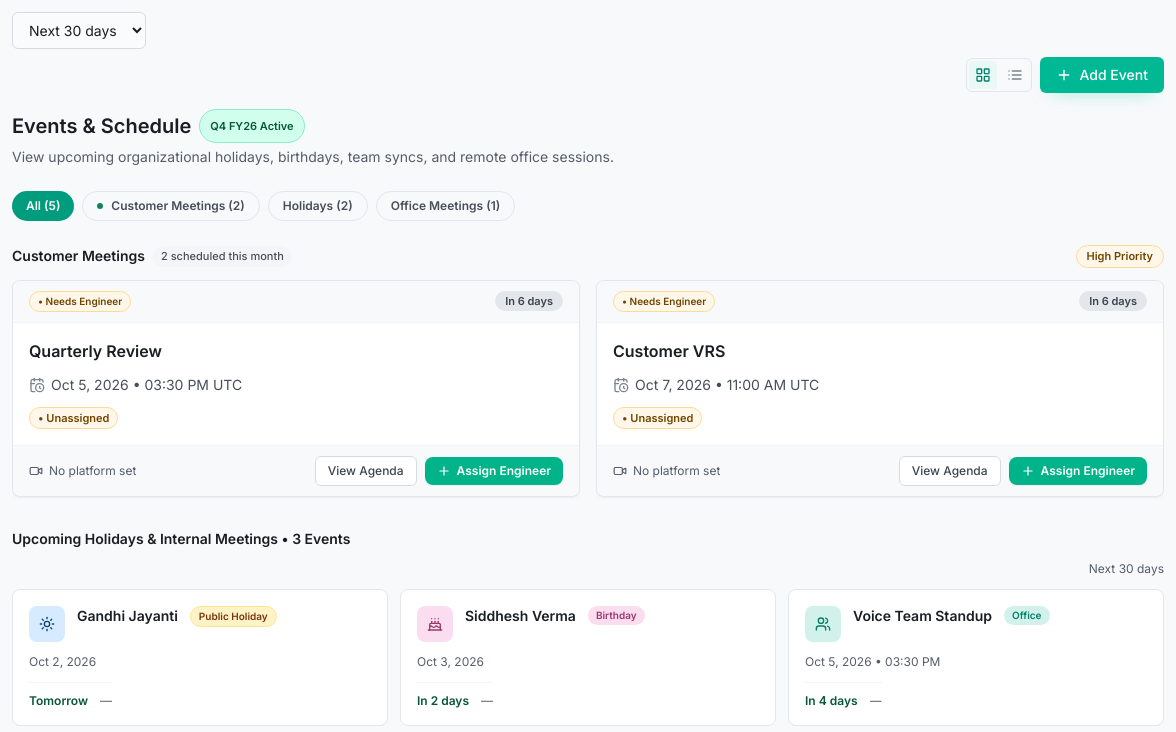
Test case: EventsPage categorisation › filters the list down to the selected pill
This screenshot has width=1176, height=732.
Check: the text "Voice Team Standup" is shown, box 853,606 -> 992,626
Click the tab "Holidays (2)" at (318, 206), box 268,191 -> 368,221
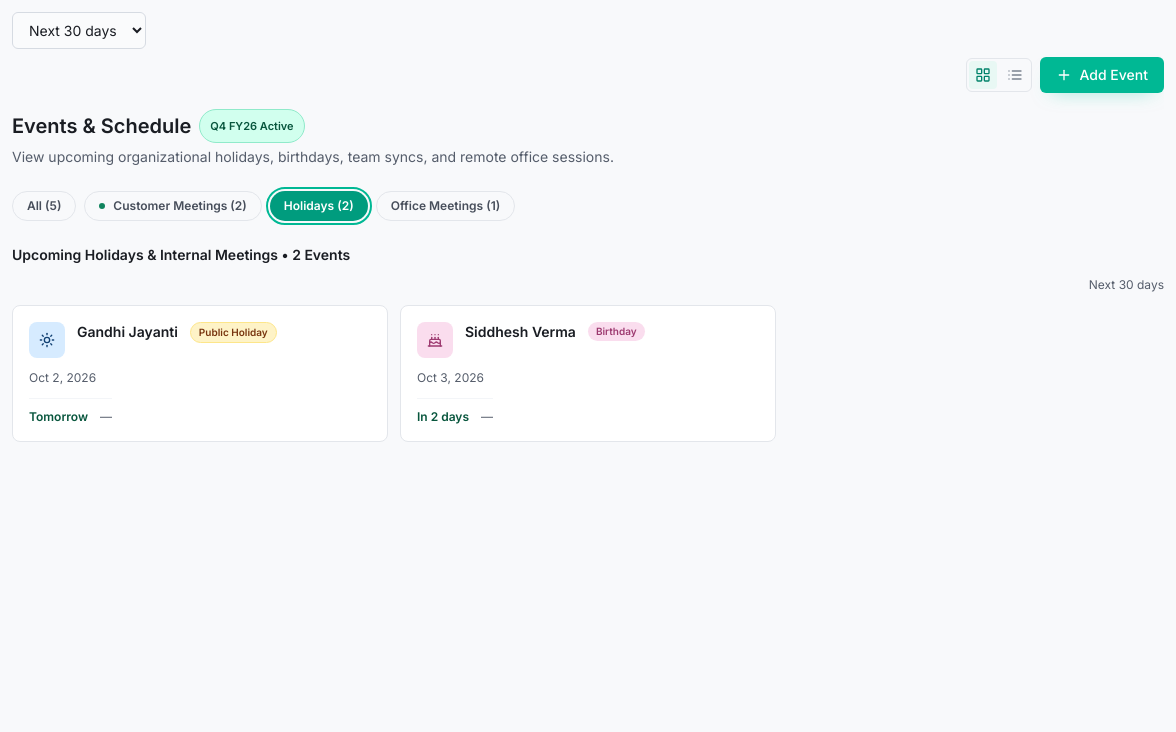
Check: the text "Gandhi Jayanti" is shown, box 77,322 -> 178,342
Check: the button "Voice Team Standup" is gone
Check: the button "Customer VRS" is gone
